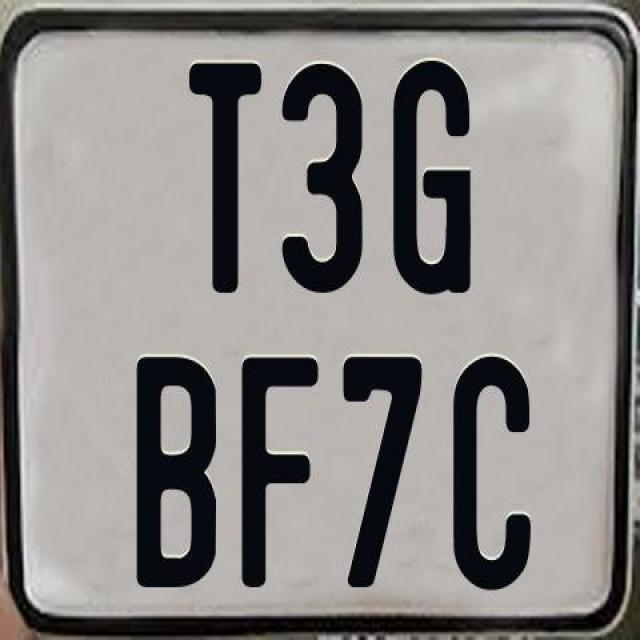3: (283, 59, 368, 293)
7: (338, 356, 418, 594)
B: (132, 353, 219, 592)
C: (454, 353, 534, 588)
F: (237, 355, 320, 592)
G: (392, 60, 474, 302)
T: (186, 58, 262, 288)
